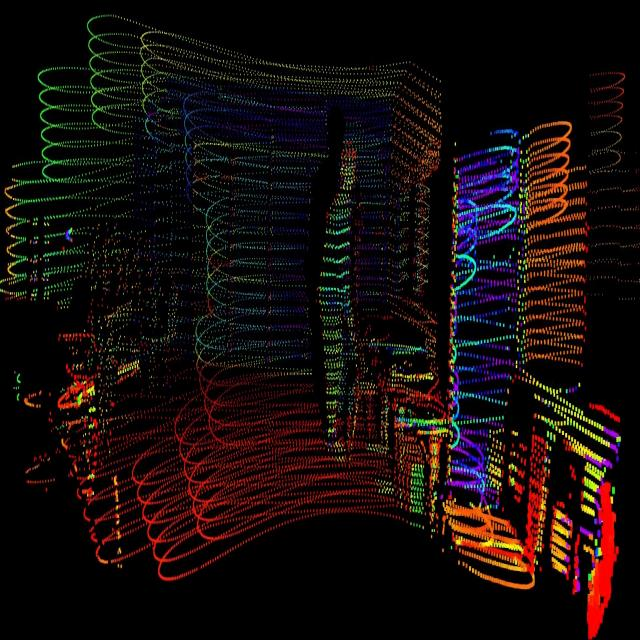human: (317, 133, 368, 466)
